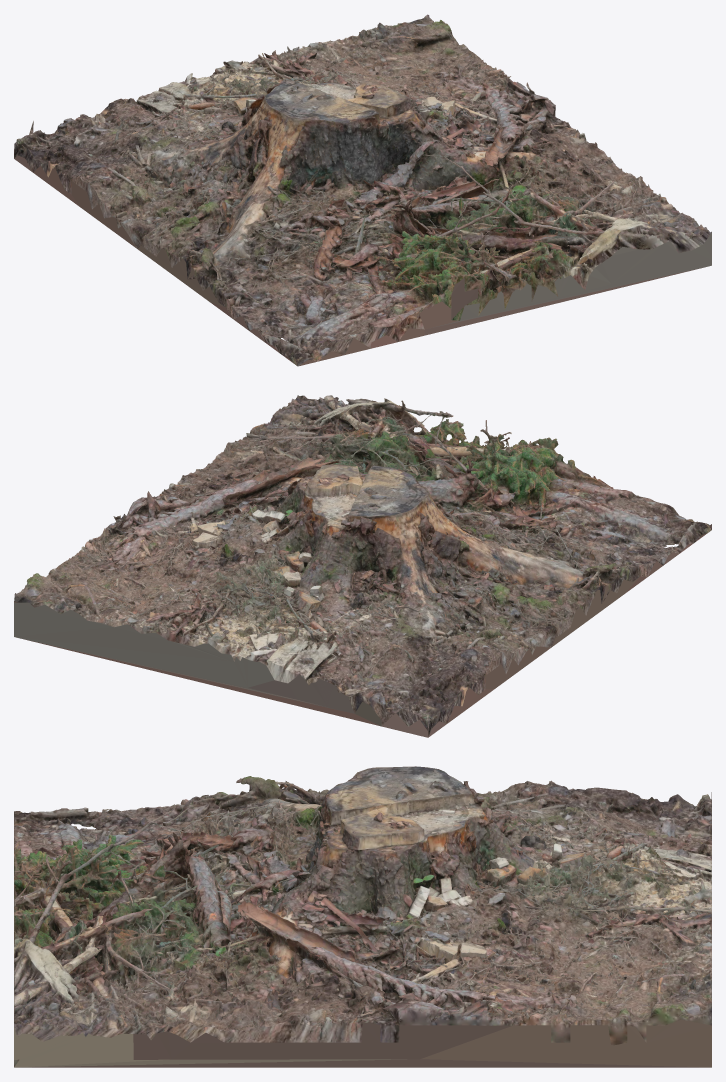
The model's file is sf-spruce-tree-stump-61a7d7.glb.
3 renders of one model, top to bottom at view 1: azimuth 30°, elevation 25°; view 2: azimuth 150°, elevation 25°; view 3: azimuth 270°, elevation 25°, orthographic. The views are drawn at different scales.
Visible parts, largest first — view 1: stump-clearing_stump-clearing_u1_v1_0; view 2: stump-clearing_stump-clearing_u1_v1_0; view 3: stump-clearing_stump-clearing_u1_v1_0.
Part boxes in pixels (x1,y1,x2,y2): stump-clearing_stump-clearing_u1_v1_0: [14, 14, 711, 366]; stump-clearing_stump-clearing_u1_v1_0: [14, 395, 711, 737]; stump-clearing_stump-clearing_u1_v1_0: [14, 766, 711, 1067].
Bounding box in the file's own units: 2.18 × 0.5639 × 2.59.
Materials: 1 (1 with a texture image).
